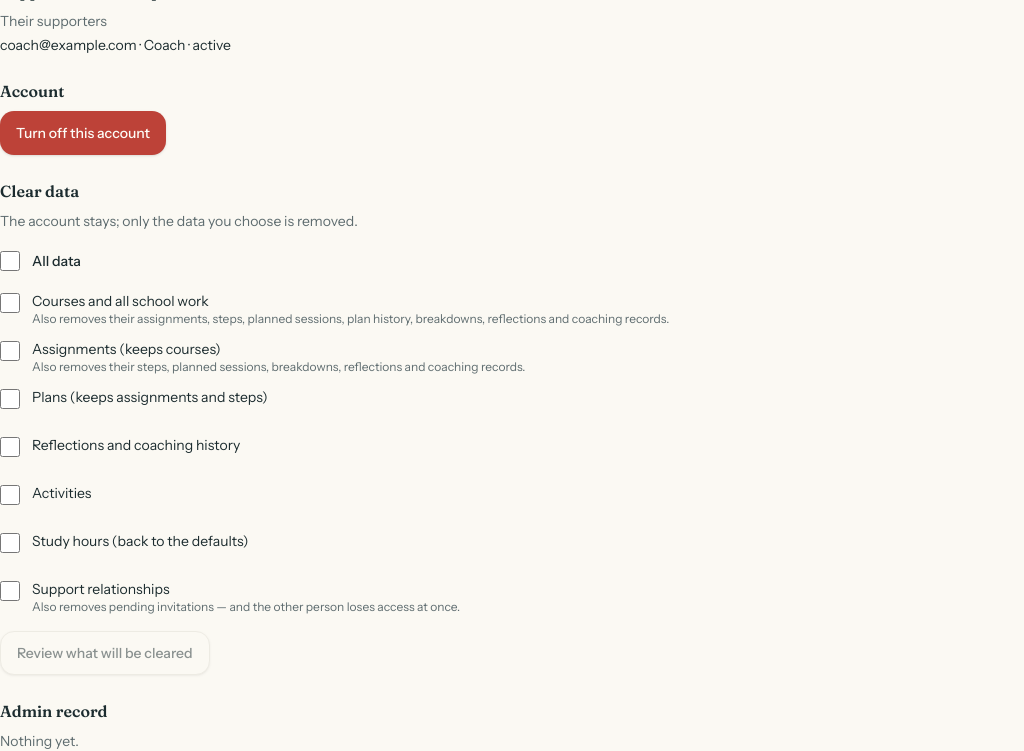
Test: AccountPage (admin-account-management-v0.1.md, requirement 2) › clearing data (requirement 3, A5, A7) › cancel clears nothing
(page scrolled)
Click the checkbox labelled "Activities".
click(10, 495)  # box [0, 485, 20, 505]
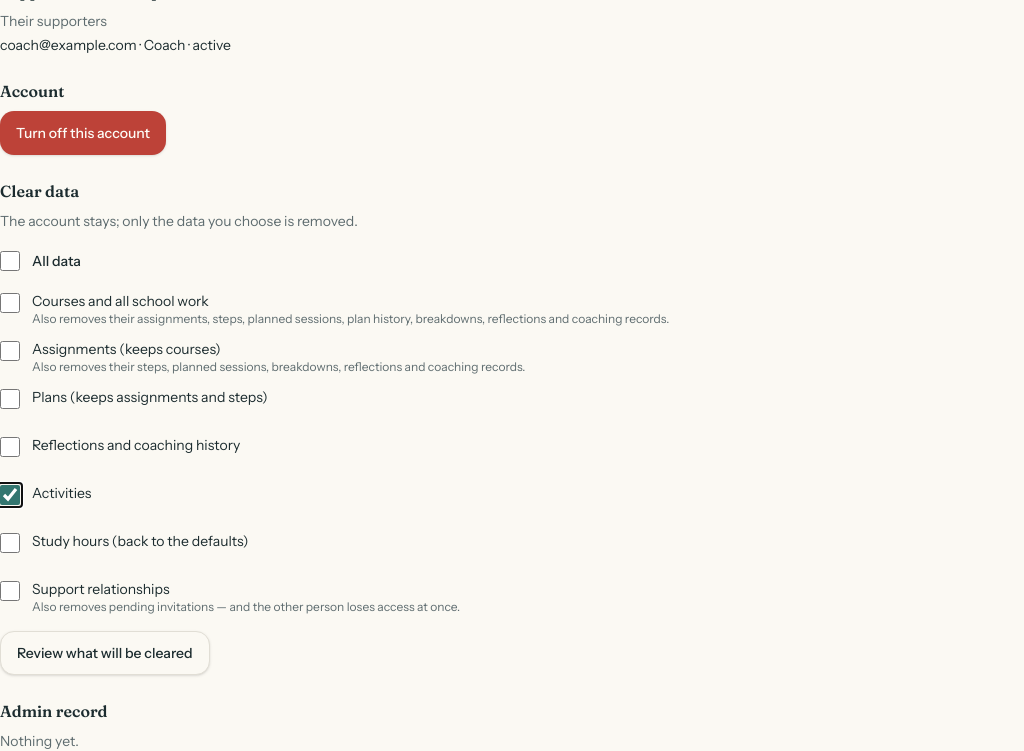
Click the button "Review what will be cleared".
click(105, 653)  # box [0, 631, 210, 675]
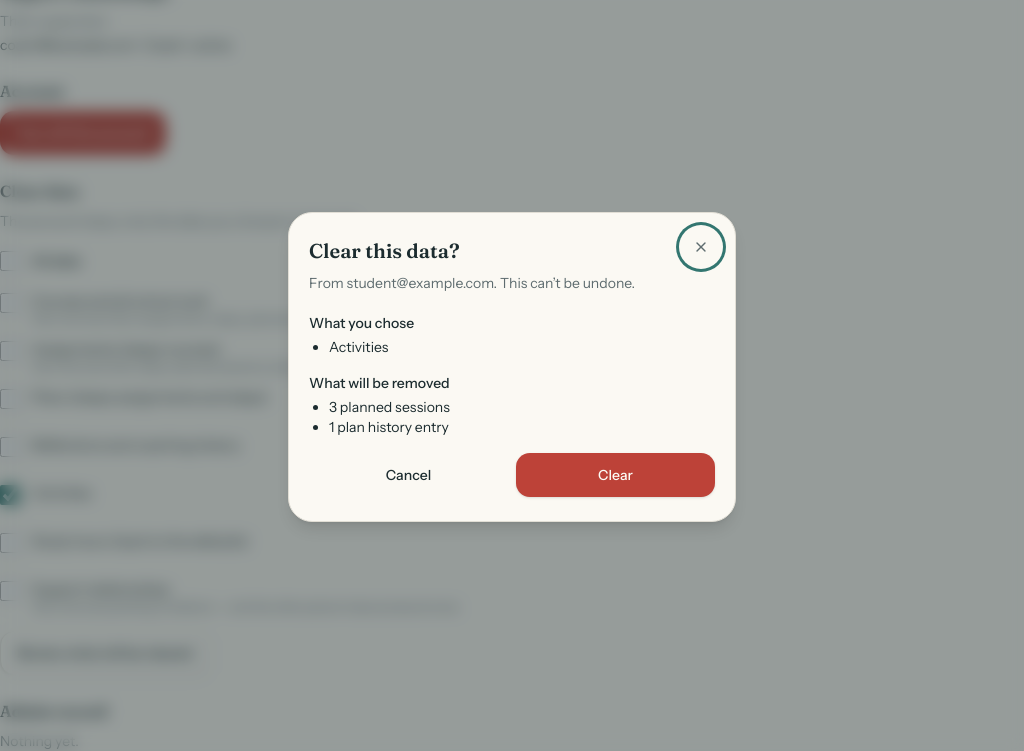
Click the button "Cancel".
click(408, 475)  # box [309, 453, 508, 497]
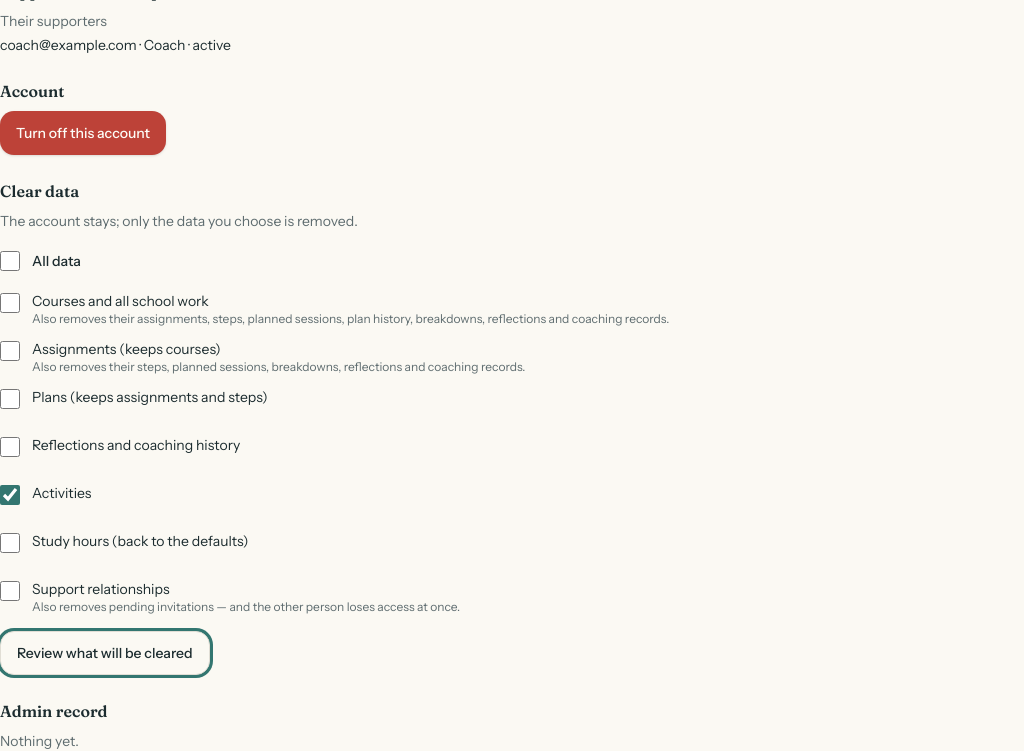
Now the dialog is gone
